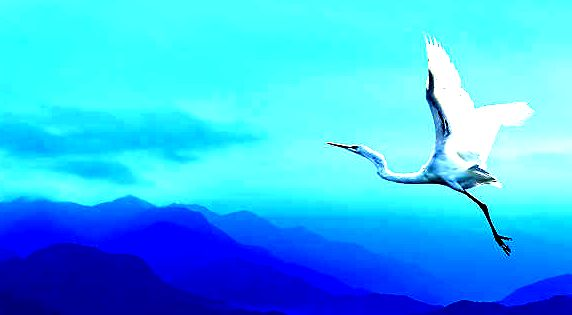Bird: (319, 33, 533, 258)
